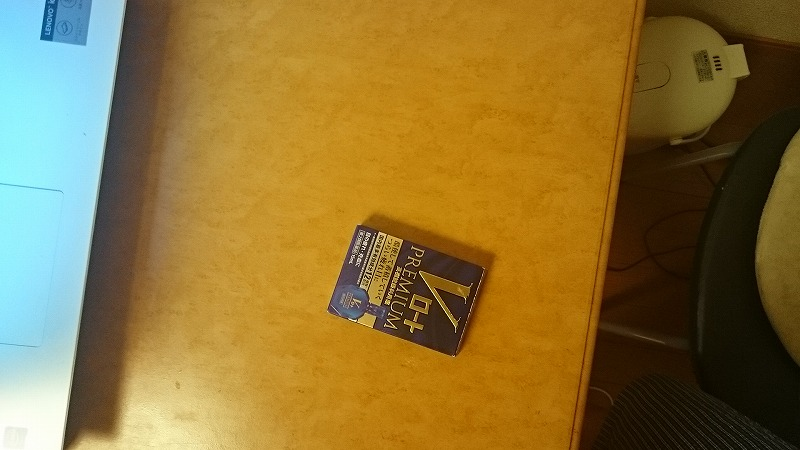D: (319, 218, 492, 370)
